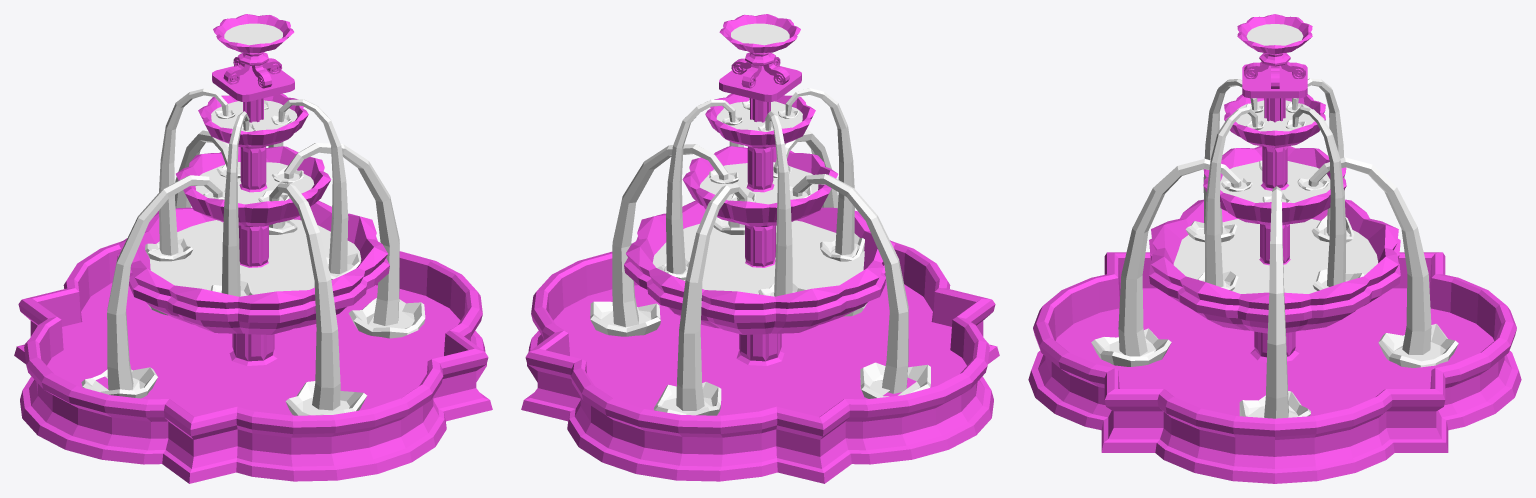
Rendered from SM_Fountain_A_Water_Fantasy.fbx.
3 renders of one model, left to right at view 1: azimuth 30°, elevation 25°; view 2: azimuth 150°, elevation 25°; view 3: azimuth 270°, elevation 25°, orthographic.
Visible parts, largest first — view 1: SM_Fountain_A_Water_Fantasy; view 2: SM_Fountain_A_Water_Fantasy; view 3: SM_Fountain_A_Water_Fantasy.
Boxes of the visible parts, left/top/right/bottom form: SM_Fountain_A_Water_Fantasy: left=14, top=14, right=492, bottom=483; SM_Fountain_A_Water_Fantasy: left=521, top=14, right=999, bottom=483; SM_Fountain_A_Water_Fantasy: left=1028, top=14, right=1521, bottom=483.
Size of the model in its own units: 6 by 4.7 by 6.
